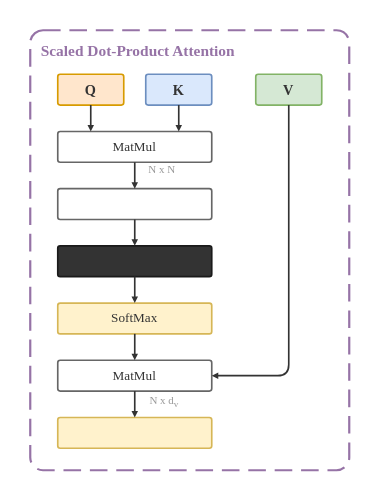
The diagram is 378 pixels wide and 499 high, and some of its shapes have lost their labels. The shapes that lost their labels are listed below. From the top down, each one's centre as x and y in pixels, then its label:
At (x=134, y=203): "Scale (1/√d k )".
At (x=134, y=261): "Mask (opt.)".
At (x=134, y=432): "Attention(Q, K, V)".
